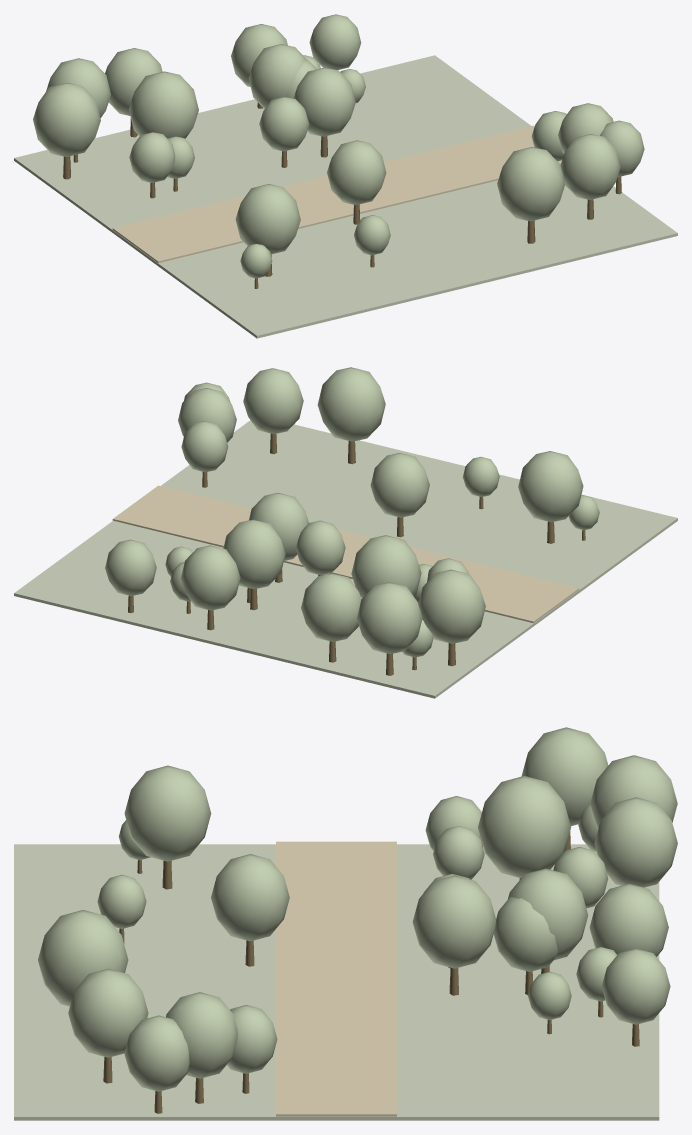
3 views of the same model, one above another, from view 1: azimuth 30°, elevation 25°; view 2: azimuth 150°, elevation 25°; view 3: azimuth 270°, elevation 25° (orthographic). The views are drawn at different scales.
Parts seen in each view (by area): view 1: terrain, object 2, lod-near-21, lod-near-27, lod-near-5, lod-near-25, lod-near-29, lod-near-23, lod-near-3, lod-near-24, lod-near-6, lod-near-8 (+10 smaller); view 2: terrain, object 2, lod-near-21, lod-near-27, lod-near-16, lod-near-25, lod-near-8, lod-near-24, lod-near-23, lod-near-5, lod-near-2, lod-near-3 (+8 smaller); view 3: terrain, object 2, lod-near-5, lod-near-25, lod-near-29, lod-near-8, lod-near-21, lod-near-3, lod-near-23, lod-near-27, lod-near-2, lod-near-12 (+13 smaller).
Part boxes in pixels (left/top/right/bottom): terrain: left=14, top=55, right=677, bottom=338; object 2: left=112, top=125, right=561, bottom=262; lod-near-21: left=497, top=147, right=565, bottom=221; lod-near-27: left=33, top=82, right=100, bottom=156; lod-near-5: left=128, top=71, right=198, bottom=138; lod-near-25: left=235, top=184, right=300, bottom=254; lod-near-29: left=293, top=67, right=355, bottom=136; lod-near-23: left=560, top=134, right=620, bottom=199; lod-near-3: left=327, top=140, right=386, bottom=204; lod-near-24: left=248, top=44, right=307, bottom=109; lod-near-6: left=309, top=14, right=361, bottom=70; lod-near-8: left=105, top=48, right=162, bottom=115; terrain: left=14, top=420, right=677, bottom=698; object 2: left=112, top=485, right=579, bottom=623; lod-near-21: left=317, top=367, right=385, bottom=441; lod-near-27: left=418, top=569, right=485, bottom=643; lod-near-16: left=356, top=582, right=422, bottom=654; lod-near-25: left=518, top=451, right=583, bottom=522; lod-near-8: left=301, top=573, right=361, bottom=641; lod-near-24: left=223, top=519, right=285, bottom=589; lod-near-23: left=243, top=368, right=303, bottom=434; lod-near-5: left=351, top=535, right=421, bottom=598; lod-near-2: left=180, top=545, right=240, bottom=610; lod-near-3: left=370, top=453, right=429, bottom=517; terrain: left=14, top=844, right=659, bottom=1120; object 2: left=276, top=841, right=396, bottom=1116; lod-near-5: left=478, top=776, right=570, bottom=877; lod-near-25: left=124, top=765, right=211, bottom=861; lod-near-29: left=412, top=875, right=495, bottom=968; lod-near-8: left=594, top=797, right=677, bottom=887; lod-near-21: left=38, top=910, right=128, bottom=1006; lod-near-3: left=211, top=854, right=289, bottom=941; lod-near-23: left=68, top=968, right=148, bottom=1057; lod-near-27: left=521, top=727, right=608, bottom=826; lod-near-2: left=589, top=883, right=668, bottom=956; lod-near-12: left=166, top=992, right=237, bottom=1078.
Size of the model in its own units: 34.22 by 7.3 by 32.93.
